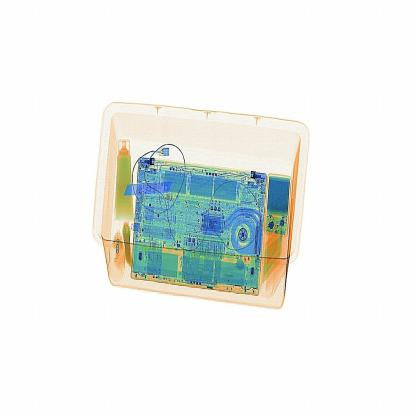pliers: (112, 173, 178, 200)
